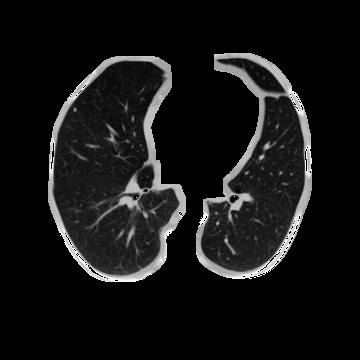PN: (73, 107, 77, 111)
